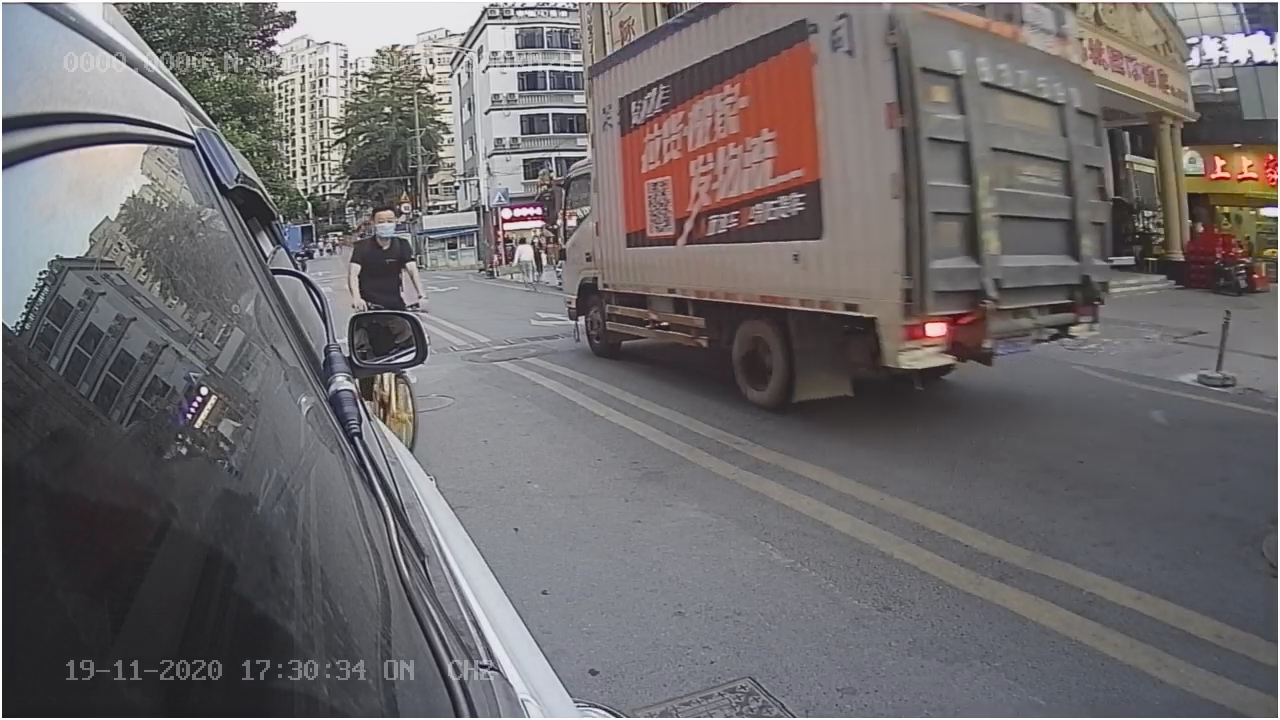person: (346, 210, 432, 304)
